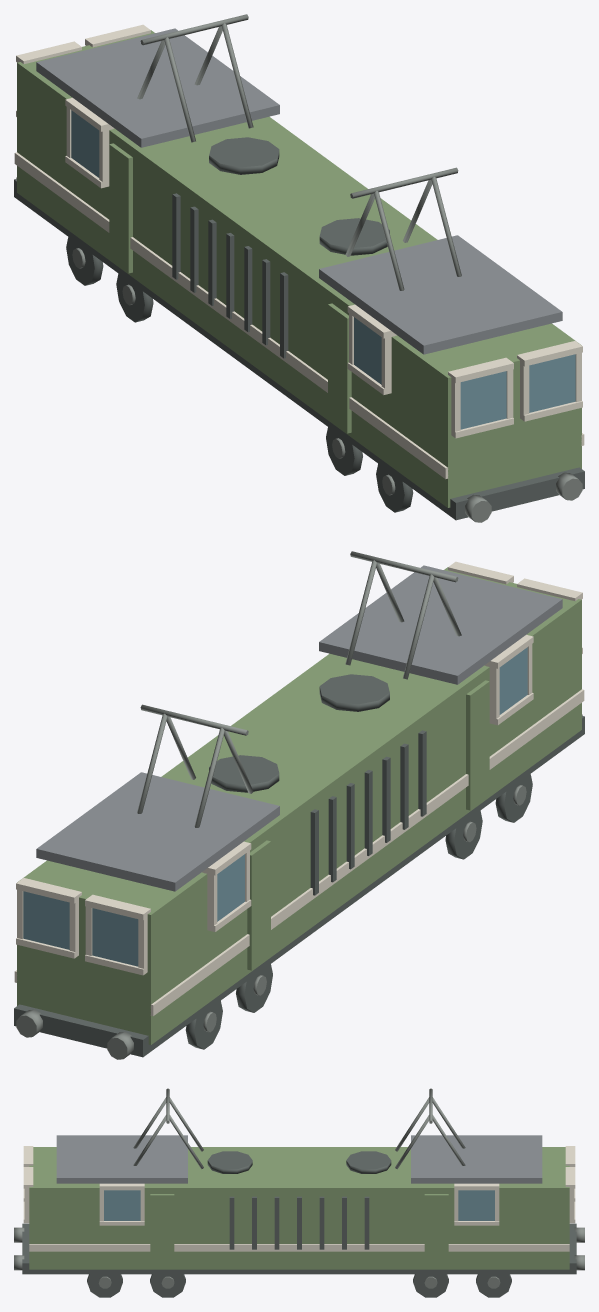
Rendered from rhine-e10_lod1.glb.
3 views of the same model, one above another, from view 1: azimuth 30°, elevation 25°; view 2: azimuth 150°, elevation 25°; view 3: azimuth 270°, elevation 25° (orthographic). The views are drawn at different scales.
Visible parts, largest first — view 1: RF_EngineBody, RF_CabRoof.001, RF_CabRoof, RF_Chassis, RF_BodyStripe.001, RF_CabDoor.003, RF_CabDoor.001, RF_Window.001, RF_Window.002, RF_RoofFan, RF_RoofFan.001, RF_Window.007 (+17 smaller); view 2: RF_EngineBody, RF_CabRoof, RF_CabRoof.001, RF_Chassis, RF_BodyStripe.001, RF_CabDoor.001, RF_CabDoor.003, RF_Window.005, RF_Window.006, RF_RoofFan.001, RF_RoofFan, RF_Window.003 (+18 smaller); view 3: RF_EngineBody, RF_CabRoof.001, RF_CabRoof, RF_Chassis, RF_BodyStripe, RF_CabDoor.002, RF_CabDoor, RF_Window.004, RF_Window, RF_RoofFan.001, RF_RoofFan, RF_Wheel.002 (+9 smaller).
Boxes of the visible parts, bbox=[...] form: RF_EngineBody: bbox=[17, 30, 581, 507]; RF_CabRoof.001: bbox=[319, 235, 562, 354]; RF_CabRoof: bbox=[36, 28, 279, 147]; RF_Chassis: bbox=[14, 179, 584, 520]; RF_BodyStripe.001: bbox=[14, 152, 448, 479]; RF_CabDoor.003: bbox=[109, 143, 132, 273]; RF_CabDoor.001: bbox=[328, 303, 351, 433]; RF_Window.001: bbox=[460, 371, 506, 429]; RF_Window.002: bbox=[529, 354, 575, 412]; RF_RoofFan: bbox=[209, 137, 279, 174]; RF_RoofFan.001: bbox=[319, 218, 389, 255]; RF_Window.007: bbox=[71, 110, 99, 177]; RF_EngineBody: bbox=[17, 567, 581, 1044]; RF_CabRoof: bbox=[36, 772, 279, 891]; RF_CabRoof.001: bbox=[319, 565, 562, 684]; RF_Chassis: bbox=[14, 716, 584, 1057]; RF_BodyStripe.001: bbox=[150, 689, 584, 1016]; RF_CabDoor.001: bbox=[466, 680, 489, 810]; RF_CabDoor.003: bbox=[247, 840, 270, 970]; RF_Window.005: bbox=[92, 908, 138, 966]; RF_Window.006: bbox=[23, 891, 69, 949]; RF_RoofFan.001: bbox=[319, 674, 389, 711]; RF_RoofFan: bbox=[209, 755, 279, 792]; RF_Window.003: bbox=[499, 647, 527, 714]; RF_EngineBody: bbox=[29, 1147, 569, 1269]; RF_CabRoof.001: bbox=[56, 1135, 187, 1183]; RF_CabRoof: bbox=[411, 1135, 542, 1183]; RF_Chassis: bbox=[22, 1223, 576, 1274]; RF_BodyStripe: bbox=[29, 1244, 569, 1251]; RF_CabDoor.002: bbox=[150, 1194, 174, 1267]; RF_CabDoor: bbox=[424, 1194, 448, 1267]; RF_Window.004: bbox=[104, 1190, 140, 1220]; RF_Window: bbox=[458, 1190, 494, 1220]; RF_RoofFan.001: bbox=[207, 1151, 252, 1173]; RF_RoofFan: bbox=[346, 1151, 391, 1173]; RF_Wheel.002: bbox=[87, 1274, 122, 1297].
Bounding box in the file's own units: 3.14 × 5.53 × 16.48.
